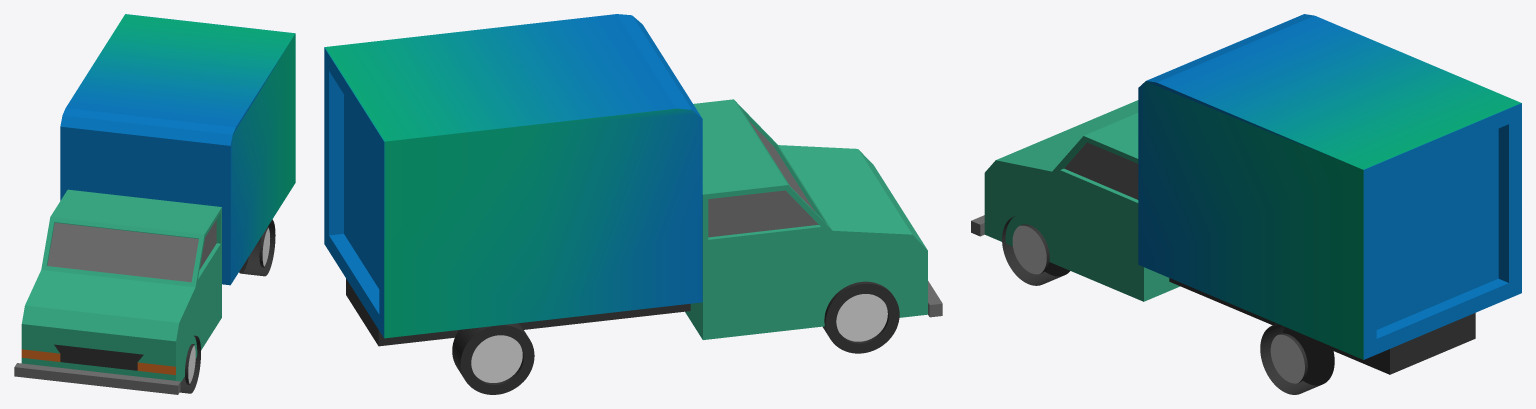
Rendered from car.glb.
The picture shows the model from 3 angles, left to right: view 1: azimuth 30°, elevation 25°; view 2: azimuth 150°, elevation 25°; view 3: azimuth 270°, elevation 25°; orthographic projection. The views are drawn at different scales.
Visible parts, largest first — view 1: Car end; view 2: Car end; view 3: Car end.
Boxes of the visible parts, left/top/right/bottom form: Car end: left=14, top=14, right=295, bottom=394; Car end: left=324, top=14, right=942, bottom=394; Car end: left=971, top=14, right=1521, bottom=394.
Size of the model in its own units: 0.0566 by 0.0294 by 0.0565.
Materials: 6 (1 with a texture image).
